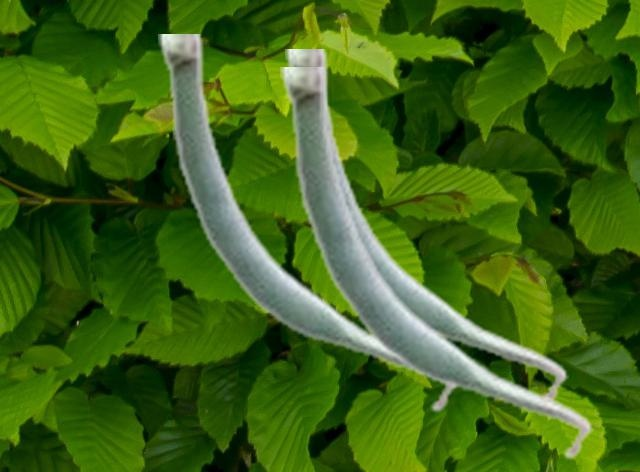french_bean: (280, 67, 592, 461), (158, 34, 458, 414), (285, 49, 567, 400)
